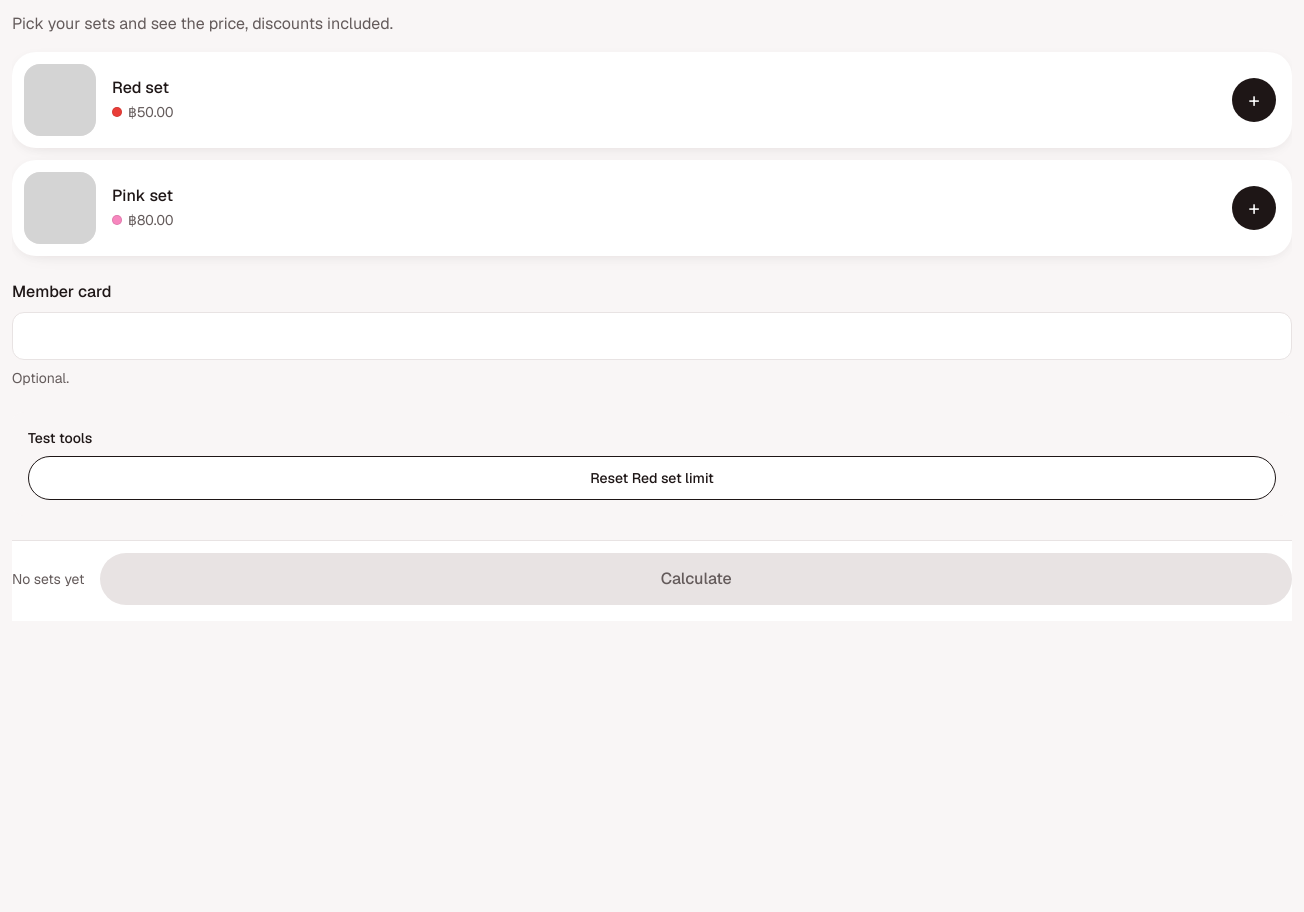
Test: Calculator › reports a failed reset
Click the button "Reset Red set limit": (652, 478) [28,456,1276,500]
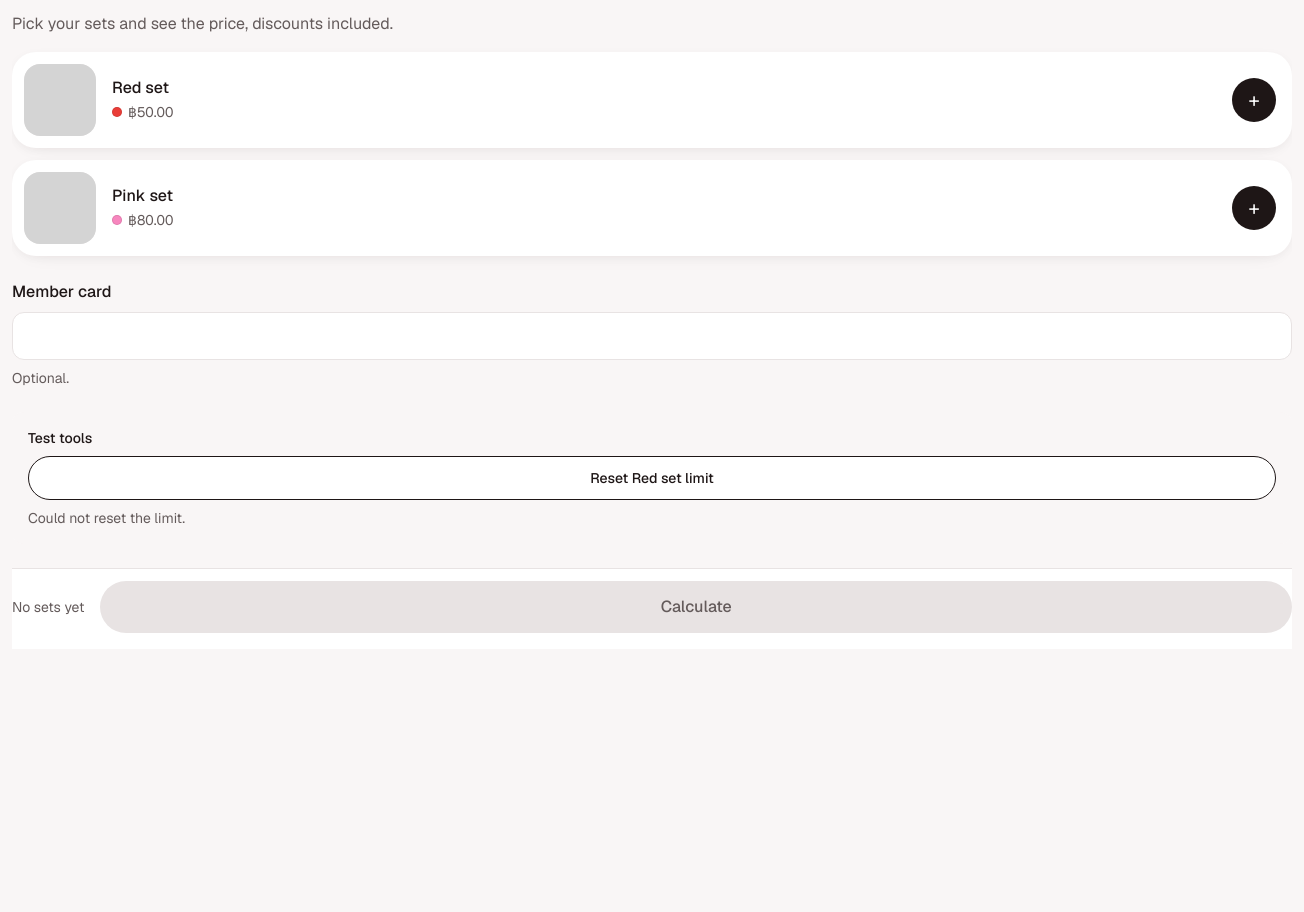
Check: the message reads "Could not reset the limit.", box [28,509,185,527]
